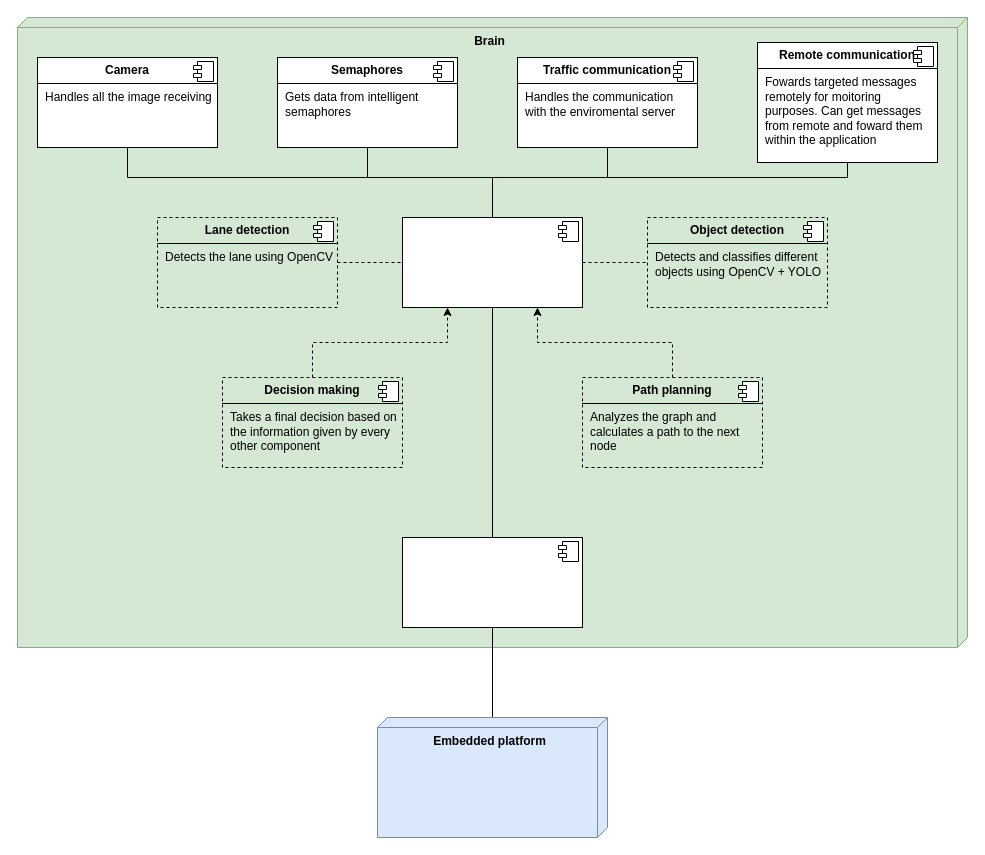
This 985x855 diagram has some shape labels left out. Here are the shapes that lost their labels. From the top down, the centre of each, then its label:
At (492,262): "Gateway Handles the communication between processes".
At (492,582): "Serial handler Handles the communication with the control board".
